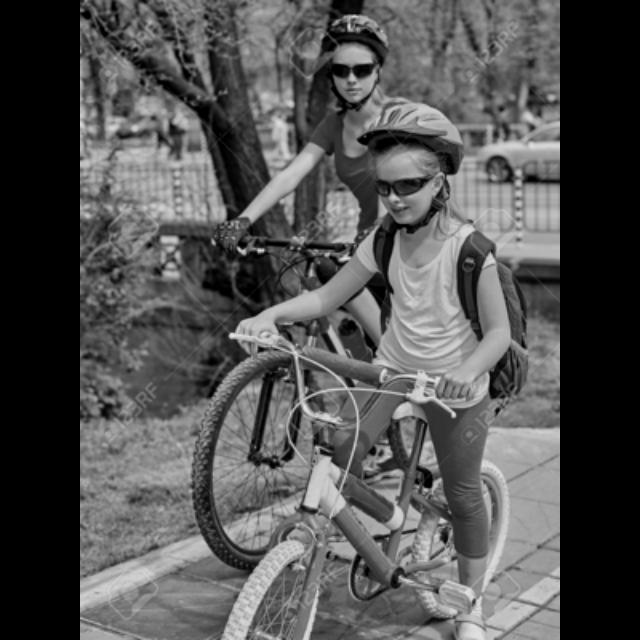With Helmet: (357, 99, 469, 227), (312, 11, 392, 105)
